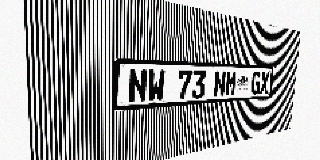3: (191, 70, 206, 99)
7: (177, 70, 192, 100)
G: (251, 72, 261, 95)
M: (225, 71, 237, 96)
N: (128, 69, 147, 103), (213, 71, 226, 97)
W: (147, 69, 165, 102)
X: (260, 72, 270, 94)
